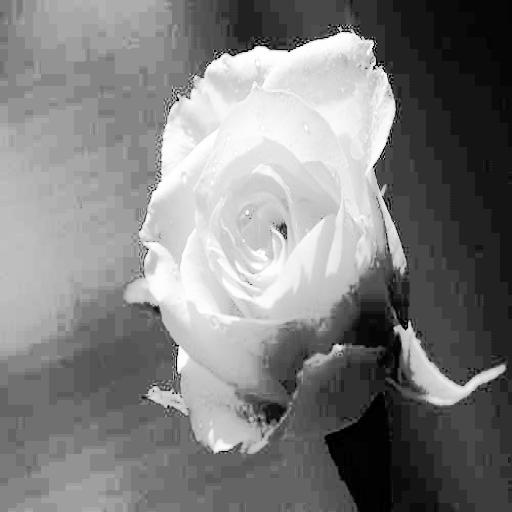rose: (139, 29, 407, 396)
